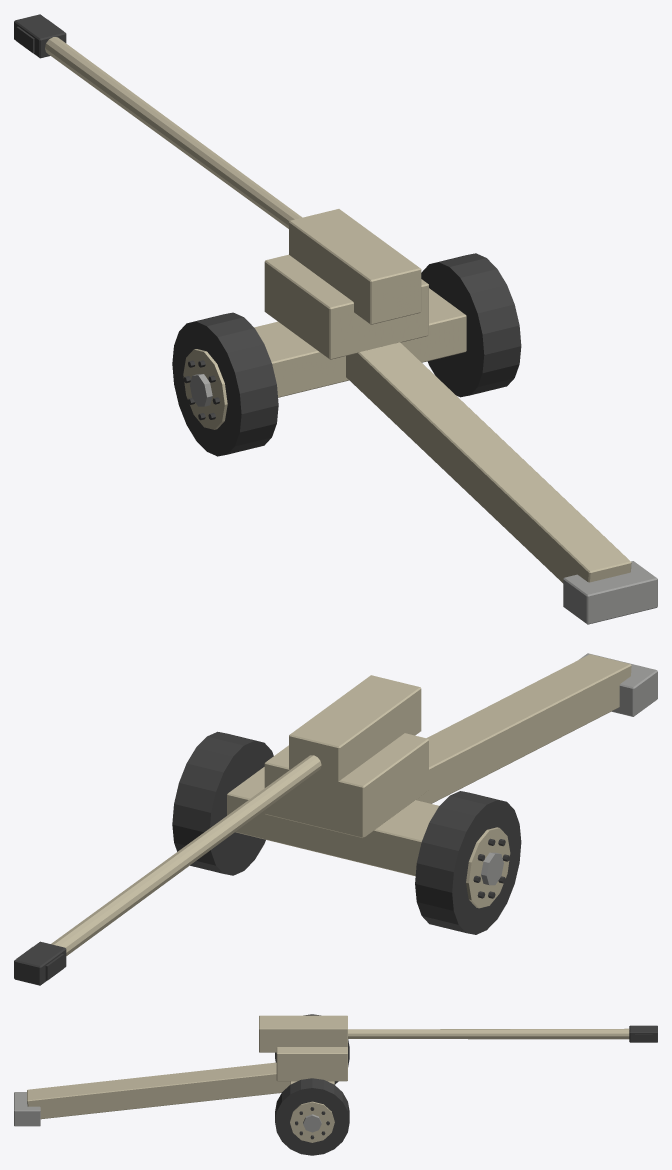
Rendered from usa_tow_m119.glb.
3 renders of one model, top to bottom at view 1: azimuth 30°, elevation 25°; view 2: azimuth 150°, elevation 25°; view 3: azimuth 270°, elevation 25°, orthographic. The views are drawn at different scales.
Parts seen in each view (by area): view 1: body, barrel, wheel_0, wheel_1, turret; view 2: body, barrel, wheel_0, turret, wheel_1; view 3: body, barrel, wheel_1, turret.
Boxes of the visible parts, bbox=[...] form: body: bbox=[254, 288, 657, 624]; barrel: bbox=[14, 14, 421, 324]; wheel_0: bbox=[172, 312, 278, 456]; wheel_1: bbox=[421, 253, 521, 397]; turret: bbox=[264, 254, 428, 359]; body: bbox=[227, 653, 657, 876]; barrel: bbox=[14, 675, 421, 985]; wheel_0: bbox=[415, 791, 521, 934]; turret: bbox=[264, 733, 428, 838]; wheel_1: bbox=[172, 731, 273, 875]; body: bbox=[14, 1062, 334, 1126]; barrel: bbox=[259, 1015, 657, 1052]; wheel_1: bbox=[275, 1078, 349, 1155]; turret: bbox=[276, 1047, 347, 1081].
Bounding box in the file's own units: 2.08 × 1.2 × 7.23.
